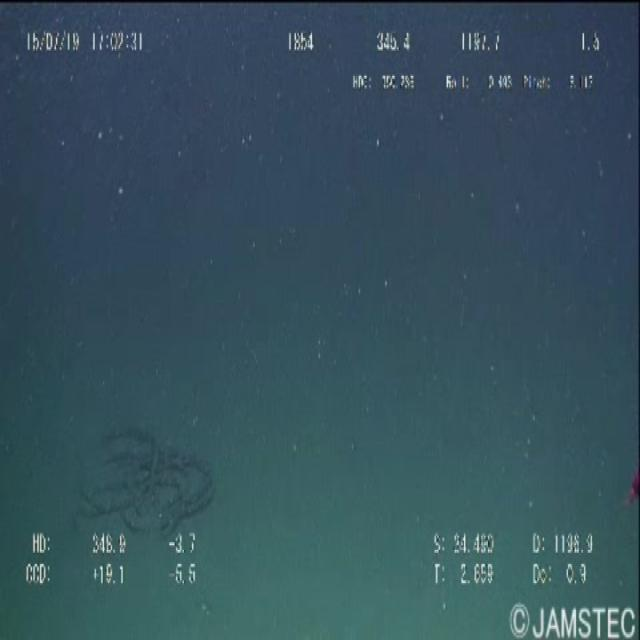Rope: (77, 423, 219, 555)
